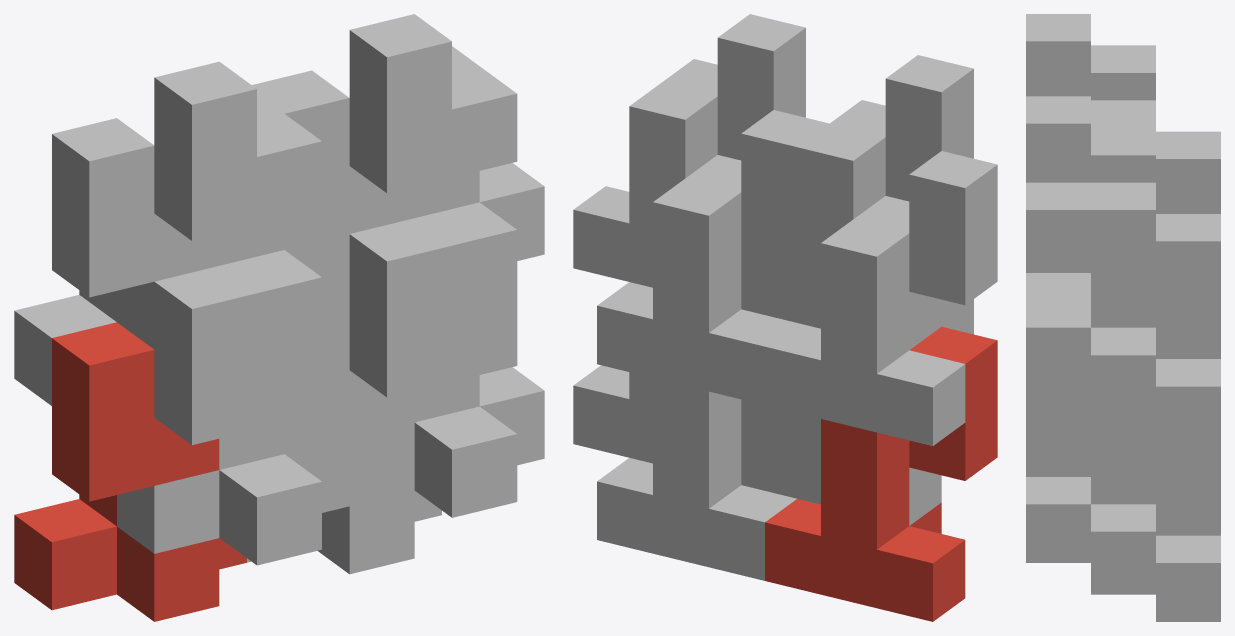
File: tiling.obj
3 renders of one model, left to right at view 1: azimuth 30°, elevation 25°; view 2: azimuth 150°, elevation 25°; view 3: azimuth 270°, elevation 25°, orthographic. The views are drawn at different scales.
Visible parts, largest first — view 1: copy_1_domain_2, copy_1_domain_6, copy_1_domain_1, copy_1_domain_4, copy_1_domain_8, copy_1_domain_3, copy_1_domain_5, copy_1_domain_7; view 2: copy_1_domain_3, copy_1_domain_7, copy_1_domain_1, copy_1_domain_4, copy_1_domain_8, copy_1_domain_5, copy_1_domain_2, copy_1_domain_6; view 3: copy_1_domain_8, copy_1_domain_6, copy_1_domain_7, copy_1_domain_5, copy_1_domain_3, copy_1_domain_4, copy_1_domain_2.
Boxes of the visible parts, <box> form: copy_1_domain_2: <box>117,266,349,565</box>; copy_1_domain_6: <box>349,218,544,517</box>; copy_1_domain_1: <box>14,322,246,621</box>; copy_1_domain_4: <box>117,61,349,361</box>; copy_1_domain_8: <box>349,14,544,313</box>; copy_1_domain_3: <box>14,118,219,405</box>; copy_1_domain_5: <box>247,302,441,574</box>; copy_1_domain_7: <box>252,70,414,249</box>; copy_1_domain_3: <box>765,151,997,445</box>; copy_1_domain_7: <box>597,110,829,404</box>; copy_1_domain_1: <box>765,326,997,621</box>; copy_1_domain_4: <box>741,55,973,349</box>; copy_1_domain_8: <box>573,14,805,287</box>; copy_1_domain_5: <box>597,378,797,580</box>; copy_1_domain_2: <box>741,299,973,525</box>; copy_1_domain_6: <box>573,365,652,463</box>; copy_1_domain_8: <box>1026,96,1155,413</box>; copy_1_domain_6: <box>1026,273,1155,590</box>; copy_1_domain_7: <box>1091,127,1220,445</box>; copy_1_domain_5: <box>1091,445,1220,621</box>; copy_1_domain_3: <box>1091,45,1220,213</box>; copy_1_domain_4: <box>1026,14,1155,272</box>; copy_1_domain_2: <box>1026,445,1090,476</box>.
Bounding box in the file's own units: 7 × 8 × 3.
